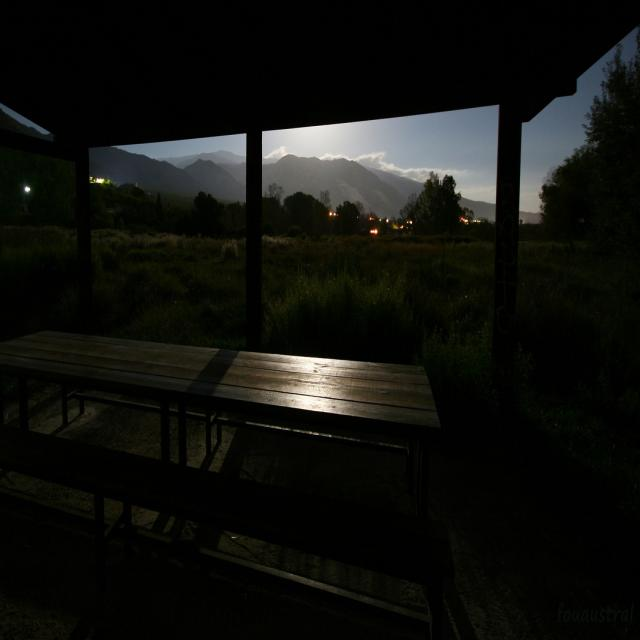Table: (0, 329, 450, 514)
chair: (1, 435, 460, 640)
